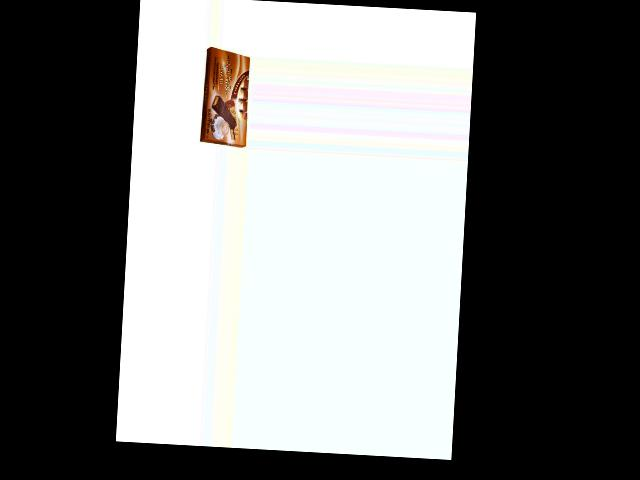chocolate: (199, 44, 252, 148)
